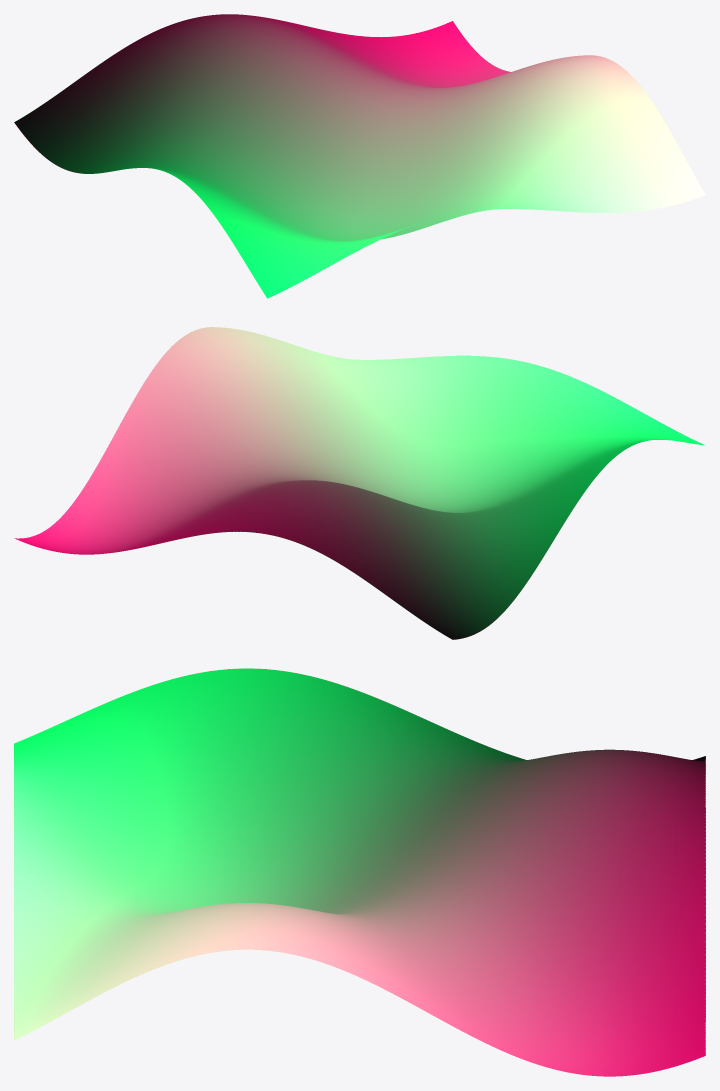
Rendered from heavy-06.glb.
The picture shows the model from 3 angles, top to bottom: view 1: azimuth 30°, elevation 25°; view 2: azimuth 150°, elevation 25°; view 3: azimuth 270°, elevation 25°; orthographic projection. The views are drawn at different scales.
Size of the model in its own units: 8 by 1.8 by 8.
1 material, 1 textured.
